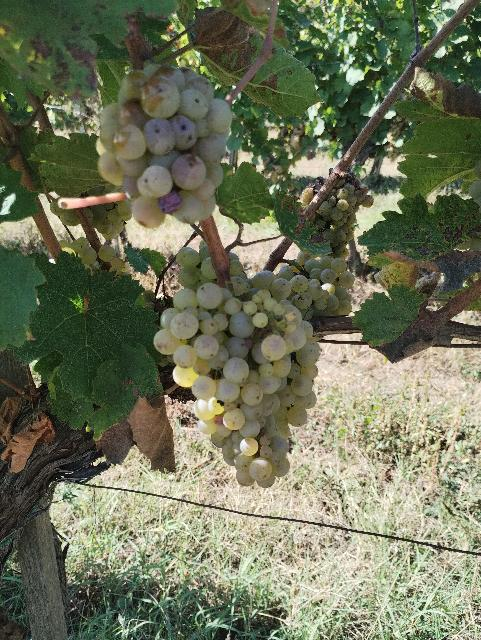grapes: (154, 276, 319, 488), (98, 61, 232, 229), (310, 171, 375, 258), (278, 252, 355, 316)
